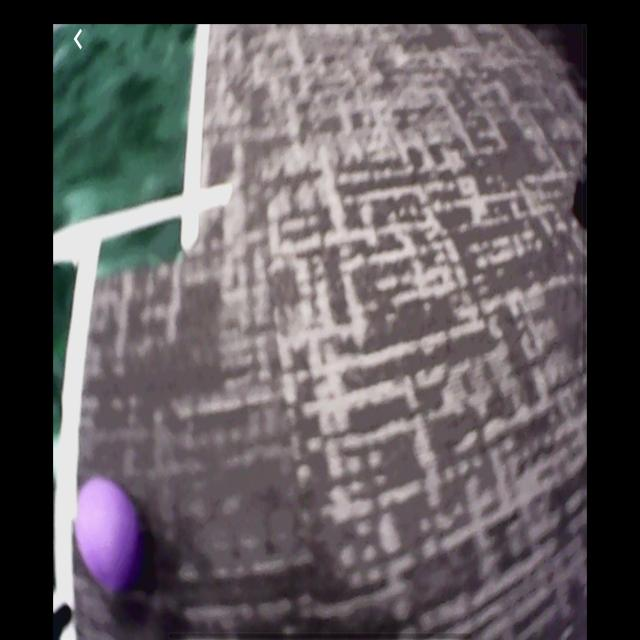ball: (79, 477, 141, 590)
